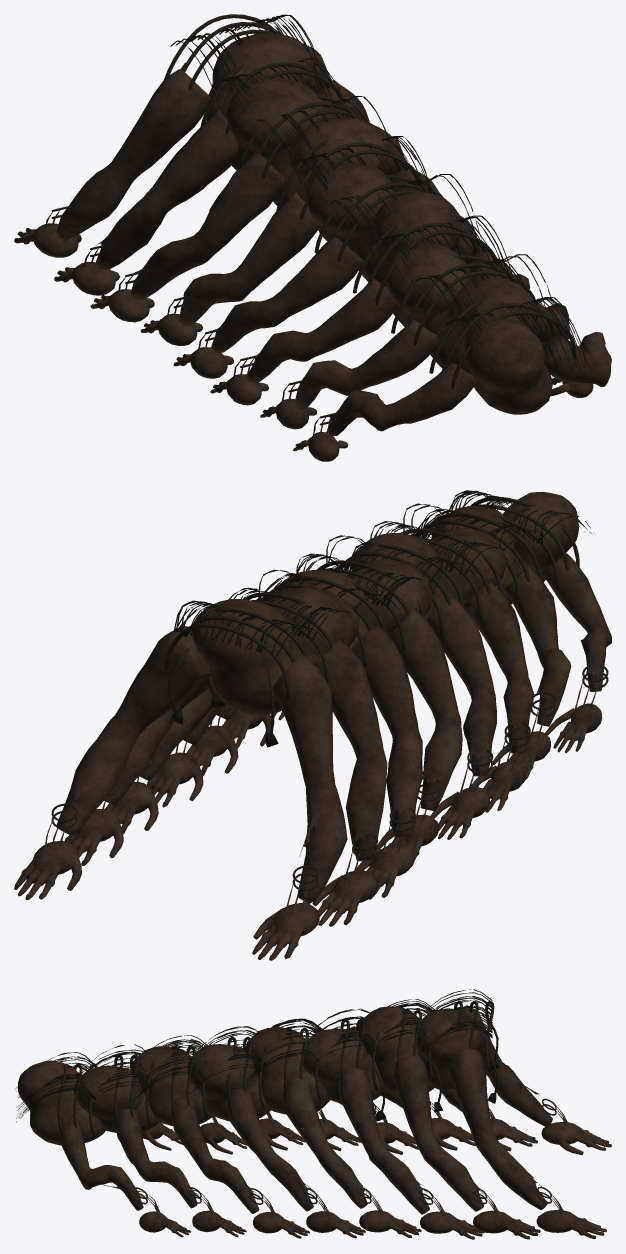
File: wraith-body-lod1.fbx
3 views of the same model, one above another, from view 1: azimuth 30°, elevation 25°; view 2: azimuth 150°, elevation 25°; view 3: azimuth 270°, elevation 25° (orthographic). The views are drawn at different scales.
Visible parts, largest first — view 1: LOD1 | Human five-finger arm 00L, LOD1 | Human five-finger arm 01L, LOD1 | Human five-finger arm 02L, LOD1 | Human five-finger arm 03L, LOD1 | Human five-finger arm 04L, LOD1 | Low fused human body Segment07, LOD1 | Human five-finger arm 05L, LOD1 | Human five-finger arm 06L, LOD1 | Human five-finger arm 07L, LOD1 | Low fused human body Segment01, LOD1 | Low fused human body Segment03, LOD1 | Low fused human body Segment04 (+23 smaller); view 2: LOD1 | Human five-finger arm 00L, LOD1 | Human five-finger arm 00R, LOD1 | Human five-finger arm 01L, LOD1 | Human five-finger arm 02L, LOD1 | Human five-finger arm 03L, LOD1 | Low fused human body Segment00, LOD1 | Human five-finger arm 04L, LOD1 | Human five-finger arm 05L, LOD1 | Human five-finger arm 06L, LOD1 | Human five-finger arm 07L, LOD1 | Human five-finger arm 01R, LOD1 | Low fused human body Segment07 (+26 smaller); view 3: LOD1 | Human five-finger arm 00R, LOD1 | Human five-finger arm 01R, LOD1 | Human five-finger arm 02R, LOD1 | Human five-finger arm 03R, LOD1 | Human five-finger arm 04R, LOD1 | Low fused human body Segment07, LOD1 | Human five-finger arm 05R, LOD1 | Human five-finger arm 00L, LOD1 | Low fused human body Segment04, LOD1 | Human five-finger arm 06R, LOD1 | Low fused human body Segment03, LOD1 | Human five-finger arm 07R (+28 smaller).
Boxes of the visible parts, box(x1,y1,x2,y2) form: LOD1 | Human five-finger arm 00L: box(14, 69, 210, 257); LOD1 | Human five-finger arm 01L: box(54, 110, 238, 295); LOD1 | Human five-finger arm 02L: box(90, 152, 285, 322); LOD1 | Human five-finger arm 03L: box(140, 191, 321, 345); LOD1 | Human five-finger arm 04L: box(173, 237, 364, 378); LOD1 | Low fused human body Segment07: box(464, 318, 552, 414); LOD1 | Human five-finger arm 05L: box(210, 279, 397, 405); LOD1 | Human five-finger arm 06L: box(260, 320, 439, 429); LOD1 | Human five-finger arm 07L: box(293, 362, 477, 461); LOD1 | Low fused human body Segment01: box(226, 78, 325, 170); LOD1 | Low fused human body Segment03: box(305, 162, 396, 252); LOD1 | Low fused human body Segment04: box(355, 191, 462, 286); LOD1 | Human five-finger arm 00L: box(252, 654, 347, 960); LOD1 | Human five-finger arm 00R: box(14, 626, 210, 899); LOD1 | Human five-finger arm 01L: box(312, 639, 387, 926); LOD1 | Human five-finger arm 02L: box(351, 625, 422, 899); LOD1 | Human five-finger arm 03L: box(377, 609, 462, 861); LOD1 | Low fused human body Segment00: box(191, 599, 299, 715); LOD1 | Human five-finger arm 04L: box(426, 596, 496, 839); LOD1 | Human five-finger arm 05L: box(464, 582, 534, 812); LOD1 | Human five-finger arm 06L: box(493, 567, 571, 779); LOD1 | Human five-finger arm 07L: box(542, 553, 611, 752); LOD1 | Human five-finger arm 01R: box(64, 677, 209, 865); LOD1 | Low fused human body Segment07: box(503, 492, 578, 582); LOD1 | Human five-finger arm 00R: box(448, 1047, 606, 1239); LOD1 | Human five-finger arm 01R: box(393, 1055, 540, 1239); LOD1 | Human five-finger arm 02R: box(338, 1067, 484, 1239); LOD1 | Human five-finger arm 03R: box(282, 1078, 421, 1237); LOD1 | Human five-finger arm 04R: box(227, 1088, 365, 1238); LOD1 | Low fused human body Segment07: box(18, 1060, 105, 1145); LOD1 | Human five-finger arm 05R: box(171, 1098, 309, 1238); LOD1 | Human five-finger arm 00L: box(459, 1005, 611, 1154); LOD1 | Low fused human body Segment04: box(187, 1044, 270, 1121); LOD1 | Human five-finger arm 06R: box(116, 1108, 246, 1237); LOD1 | Low fused human body Segment03: box(244, 1026, 330, 1114); LOD1 | Human five-finger arm 07R: box(59, 1118, 191, 1237).
Bounding box in the file's own units: 192 × 155 × 459.
Materials: 4 (4 with a texture image).
